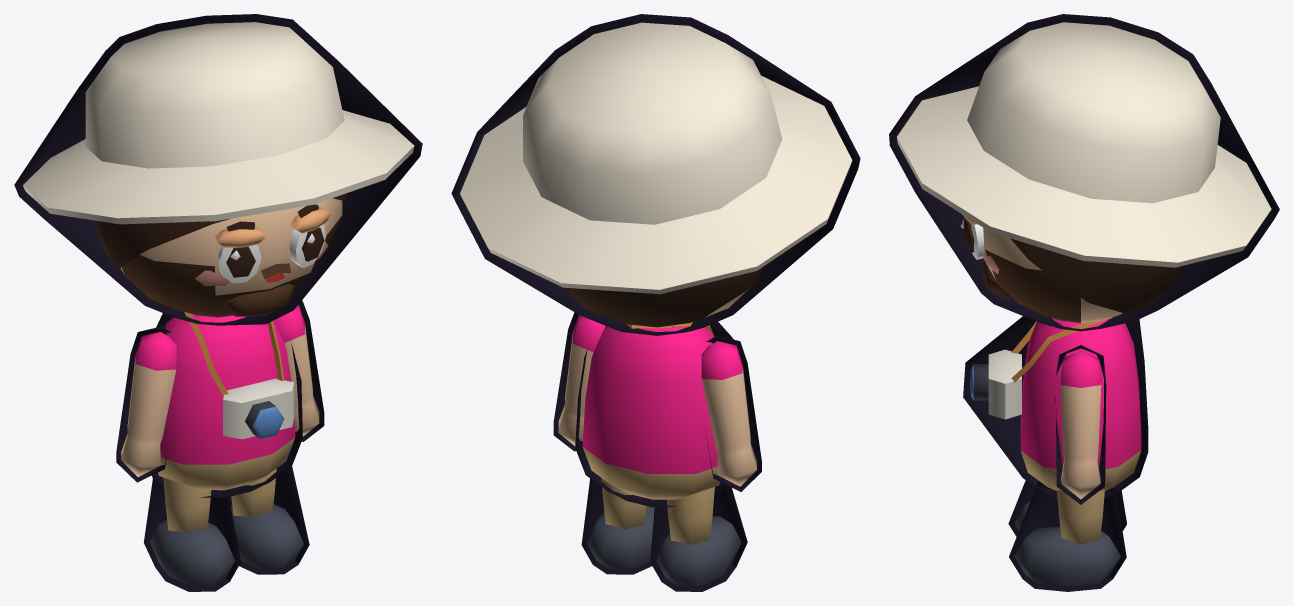
The model's file is figur_buckethat.glb.
3 views of the same model, side by side, from view 1: azimuth 30°, elevation 25°; view 2: azimuth 150°, elevation 25°; view 3: azimuth 270°, elevation 25° (orthographic).
Visible parts, largest first — view 1: kopf, koerper, bein_r, arm_r, bein_l, arm_l; view 2: kopf, koerper, bein_r, arm_r, bein_l, arm_l; view 3: kopf, koerper, bein_l, arm_l, bein_r.
Boxes of the visible parts, x1,y1,x2,y2 form: kopf: (14,14,422,325); koerper: (152,312,302,497); bein_r: (143,477,240,591); arm_r: (116,326,182,482); bein_l: (229,454,309,574); arm_l: (274,300,324,441); kopf: (451,14,860,335); koerper: (575,322,733,507); bein_r: (650,485,747,591); arm_r: (696,335,761,491); bein_l: (581,478,654,574); arm_l: (553,312,605,451); kopf: (889,14,1279,331); koerper: (963,316,1148,498); bein_l: (1009,481,1126,591); arm_l: (1055,345,1106,504); bein_r: (1008,480,1126,536).
Size of the model in its own units: 0.9345 by 1.32 by 0.8965.
